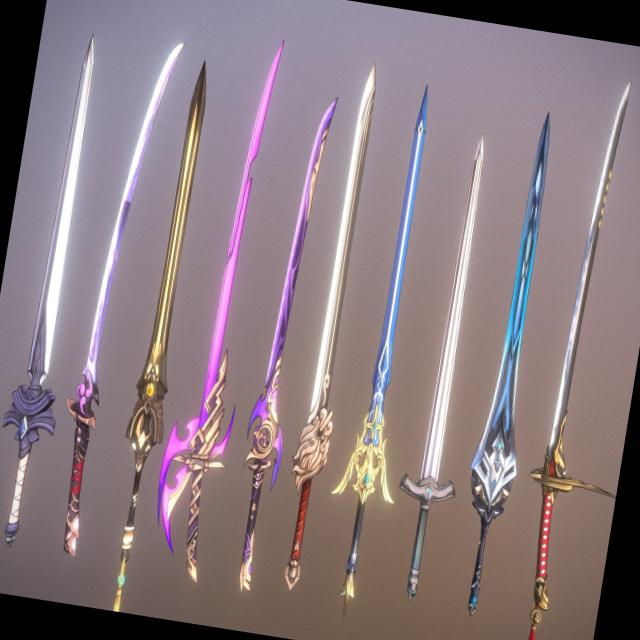Weapon: (140, 24, 298, 595), (36, 31, 195, 586), (310, 74, 462, 616), (497, 68, 640, 640), (212, 76, 354, 619), (99, 58, 222, 614), (266, 55, 388, 609), (446, 105, 576, 621), (379, 124, 514, 616), (0, 19, 122, 553)
